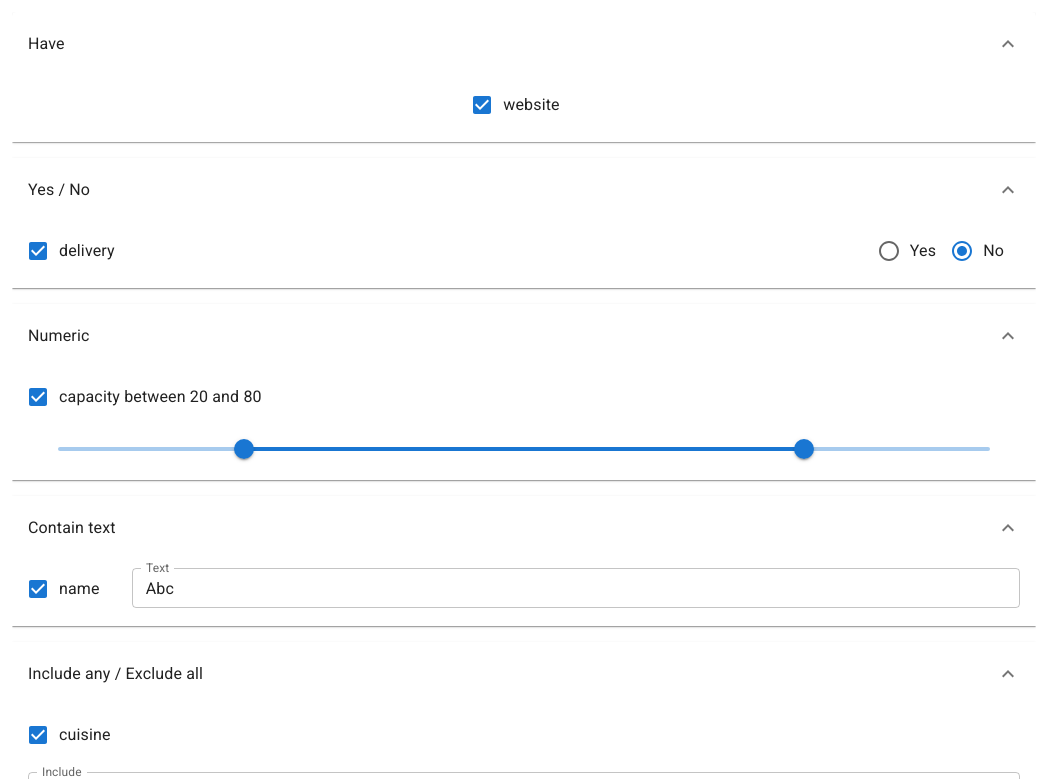
Test: <AttributeFiltersList /> › ns region › should collapse and expand region
The image size is (1048, 779).
Click the button "Numeric". click: (59, 336)
box: [12,304,1036,368]
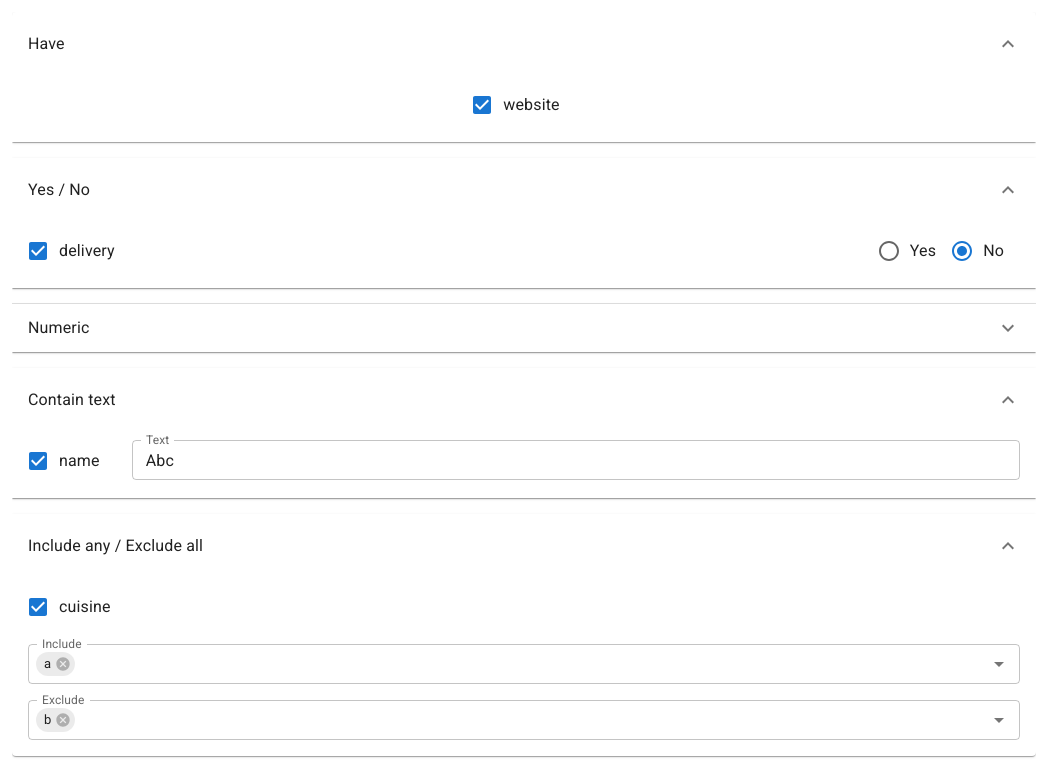
Click the button "Numeric". click: (59, 328)
box: [12,304,1036,352]
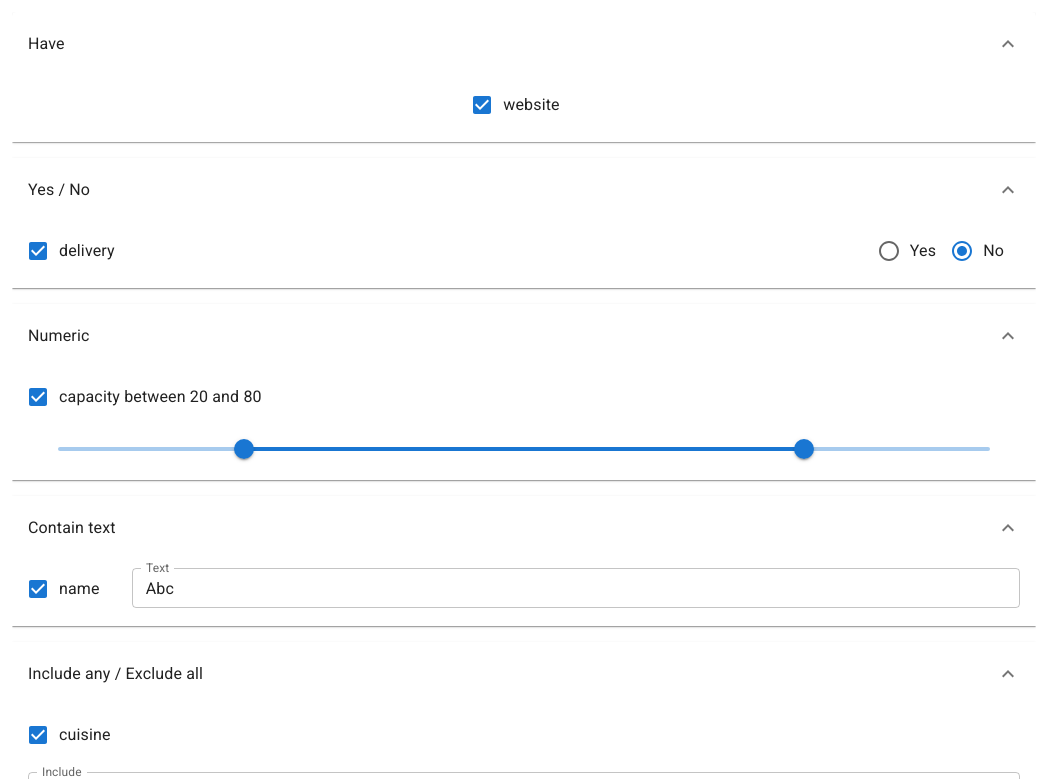
Expected: the element named "Numeric" is shown, [12,368,1036,480]
